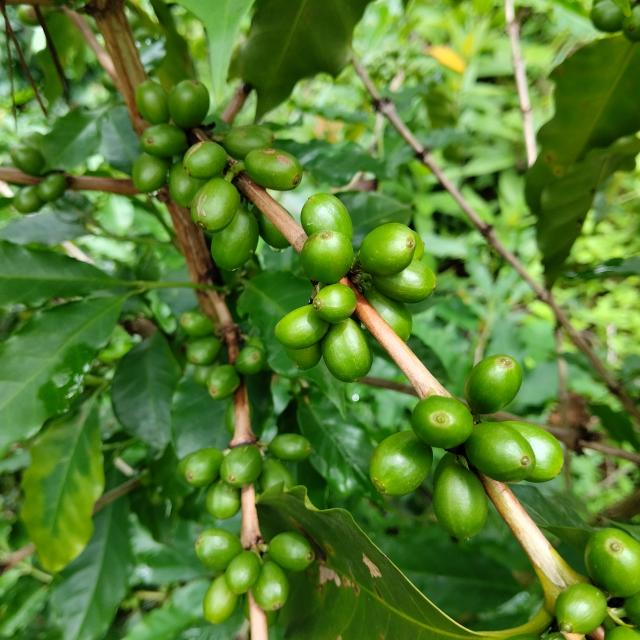green: (433, 453, 488, 540), (465, 422, 536, 483), (370, 430, 433, 498), (502, 421, 565, 483), (586, 529, 640, 599), (465, 355, 523, 415), (322, 318, 373, 383), (412, 396, 474, 449), (211, 205, 259, 271), (359, 222, 417, 276), (301, 230, 354, 284), (372, 259, 436, 303), (190, 177, 240, 232), (364, 286, 413, 342), (556, 584, 608, 636), (300, 193, 353, 240), (275, 305, 330, 350), (244, 148, 302, 190), (195, 529, 243, 571), (168, 79, 209, 128), (251, 562, 289, 612), (267, 533, 315, 572), (168, 160, 207, 208), (220, 445, 262, 489), (177, 448, 223, 488), (203, 575, 239, 626), (222, 124, 274, 159), (313, 284, 356, 323), (183, 141, 227, 179), (131, 152, 171, 192), (140, 123, 187, 157), (225, 551, 261, 595), (135, 79, 170, 124), (206, 480, 240, 520), (257, 210, 290, 251), (268, 434, 311, 463), (285, 341, 322, 370)
